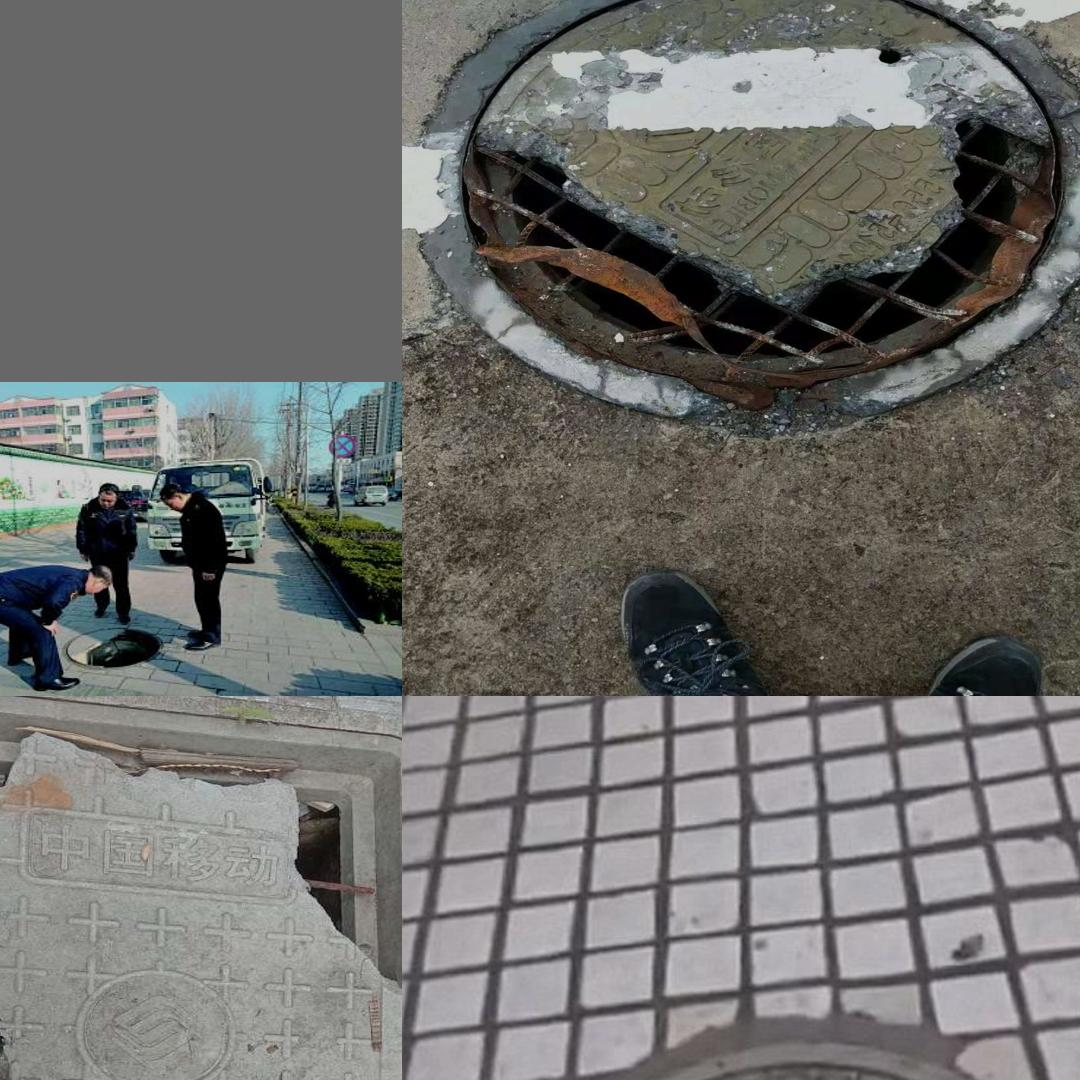broke: (416, 0, 1080, 435), (0, 708, 402, 1080), (476, 1053, 1080, 1080), (51, 618, 171, 669)
